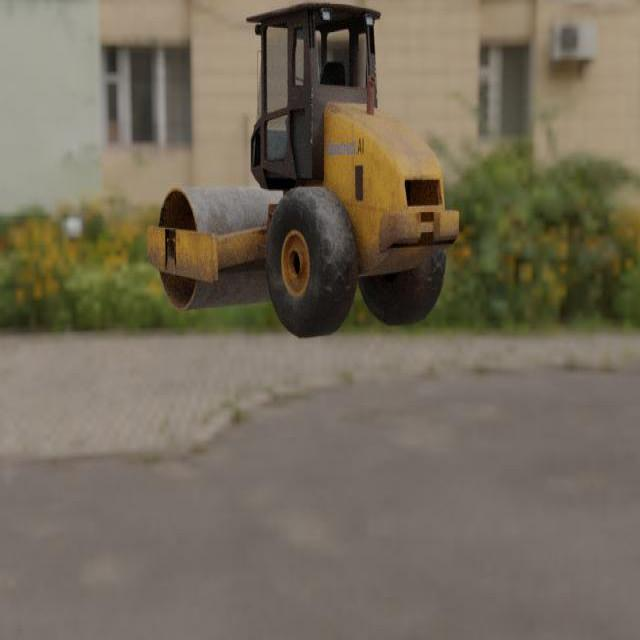Roller: (146, 1, 459, 339)
